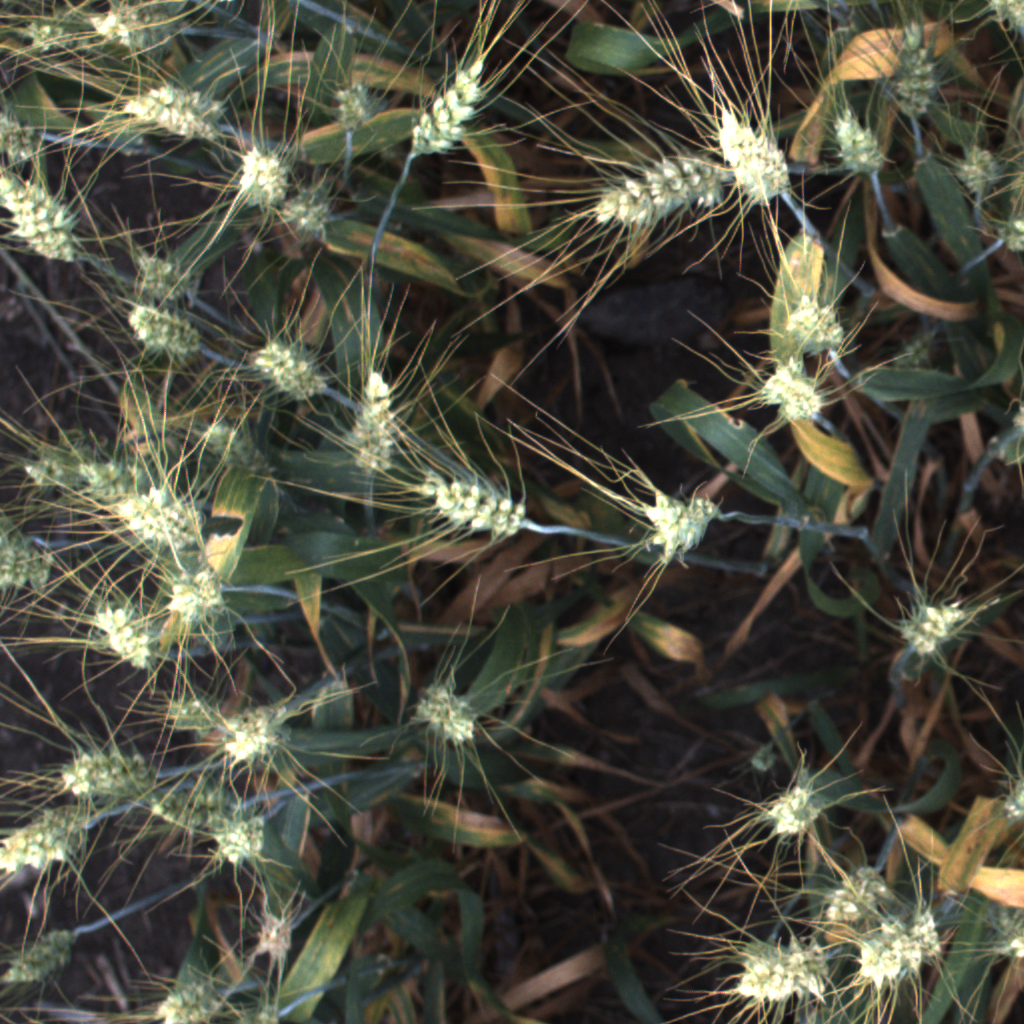wheat_head: (569, 121, 746, 251), (404, 462, 550, 555), (697, 90, 803, 214), (390, 47, 503, 160), (717, 919, 844, 1012), (397, 660, 503, 770), (623, 468, 726, 578), (875, 572, 984, 674), (741, 754, 850, 850), (0, 151, 89, 268), (741, 346, 844, 443), (103, 481, 221, 563), (764, 282, 864, 375), (240, 330, 343, 420), (74, 589, 180, 675), (110, 86, 237, 156), (340, 364, 409, 485), (853, 904, 949, 988), (135, 782, 257, 846), (44, 739, 173, 799), (880, 15, 951, 122), (0, 912, 86, 999), (0, 806, 101, 880), (107, 300, 217, 367), (818, 94, 891, 190), (66, 445, 166, 515), (9, 436, 105, 503), (206, 803, 285, 884), (808, 864, 898, 933), (136, 969, 242, 1024), (144, 682, 235, 745), (0, 520, 71, 599), (79, 0, 182, 54), (211, 711, 294, 773), (320, 64, 386, 140), (121, 245, 198, 308), (240, 902, 310, 971), (223, 144, 295, 209), (267, 184, 342, 246), (167, 557, 233, 624), (13, 9, 93, 64), (209, 429, 277, 487), (0, 103, 59, 167), (957, 144, 1004, 196), (967, 0, 1024, 36)
